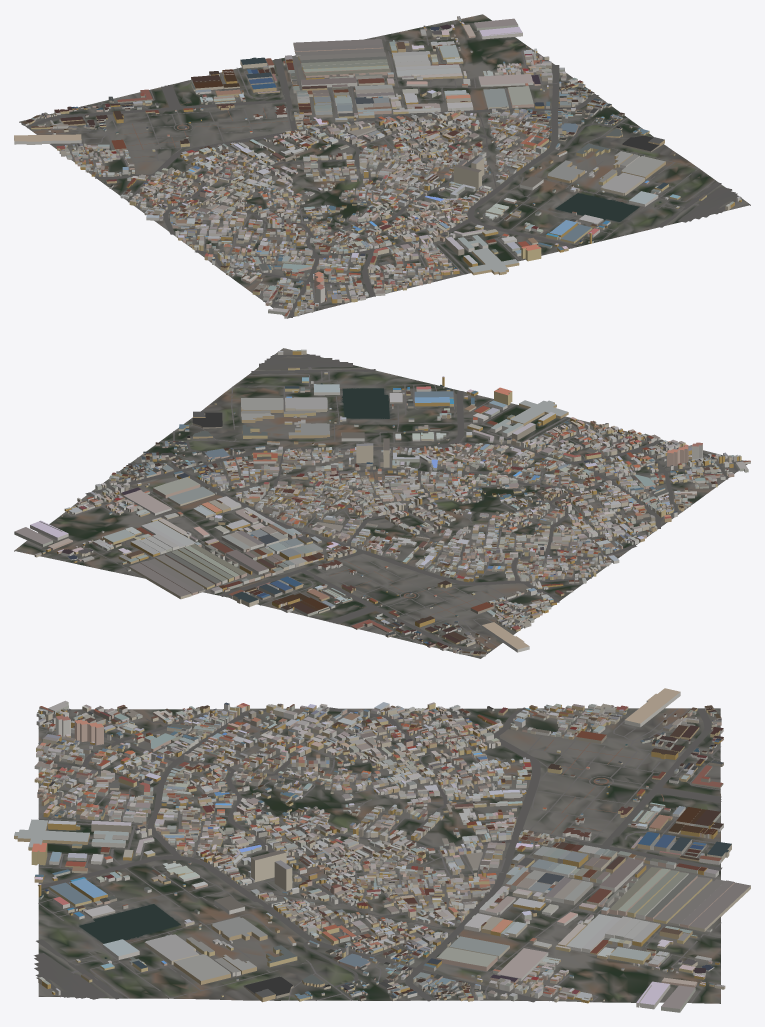
3 views of the same model, one above another, from view 1: azimuth 30°, elevation 25°; view 2: azimuth 150°, elevation 25°; view 3: azimuth 270°, elevation 25° (orthographic). The views are drawn at different scales.
Visible parts, largest first — view 1: buildings, ground, roads, water; view 2: buildings, ground, roads, water; view 3: buildings, ground, roads, water.
Part boxes in pixels (left/top/right/bottom): buildings: left=14, top=16, right=741, bottom=318; ground: left=19, top=14, right=750, bottom=318; roads: left=26, top=20, right=742, bottom=317; water: left=555, top=193, right=661, bottom=221; buildings: left=14, top=349, right=750, bottom=656; ground: left=14, top=348, right=747, bottom=658; roads: left=26, top=354, right=746, bottom=653; water: left=321, top=383, right=389, bottom=418; buildings: left=14, top=688, right=750, bottom=1012; ground: left=38, top=708, right=720, bottom=1003; roads: left=34, top=707, right=722, bottom=1002; water: left=79, top=904, right=180, bottom=958.
Size of the model in its own units: 1527 by 68.95 by 1513.
